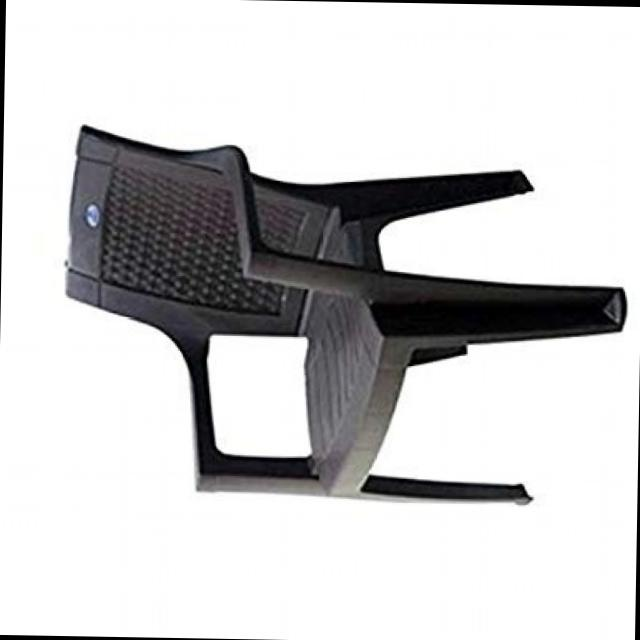Chair: (53, 121, 632, 517)
